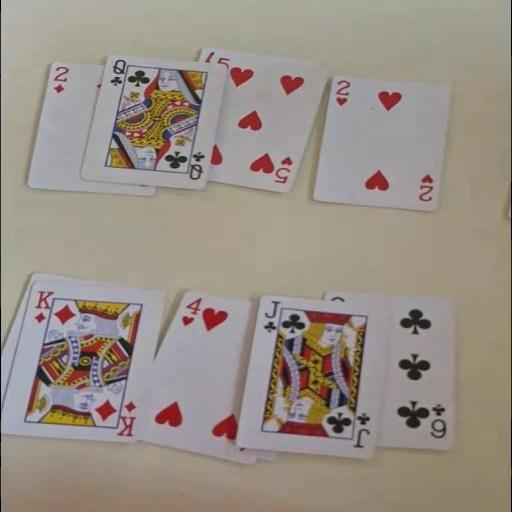2: (50, 64, 70, 94), (416, 171, 435, 202), (333, 78, 352, 107)
4: (178, 295, 204, 328)
5: (272, 154, 294, 184)
6: (428, 402, 448, 439)
J: (350, 411, 372, 448), (260, 298, 281, 334)
K: (114, 398, 138, 438), (30, 288, 56, 324)
Q: (186, 150, 206, 181), (107, 58, 126, 86)
